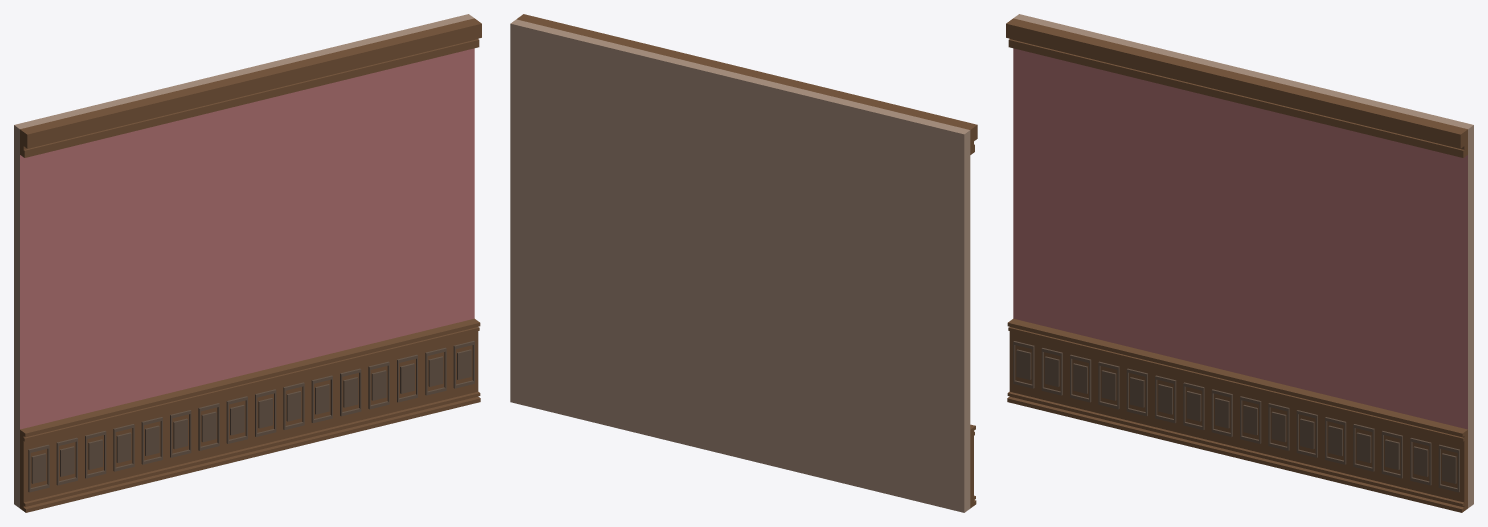
Rendered from Wall_22.fbx.
3 renders of one model, left to right at view 1: azimuth 30°, elevation 25°; view 2: azimuth 150°, elevation 25°; view 3: azimuth 330°, elevation 25°, orthographic.
Parts seen in each view (by area): view 1: Wall_22; view 2: Wall_22; view 3: Wall_22.
Part boxes in pixels (left/top/right/bottom): Wall_22: left=14, top=14, right=481, bottom=512; Wall_22: left=510, top=14, right=977, bottom=512; Wall_22: left=1006, top=14, right=1473, bottom=512.
Bounding box in the file's own units: 489 × 24.61 × 390.
